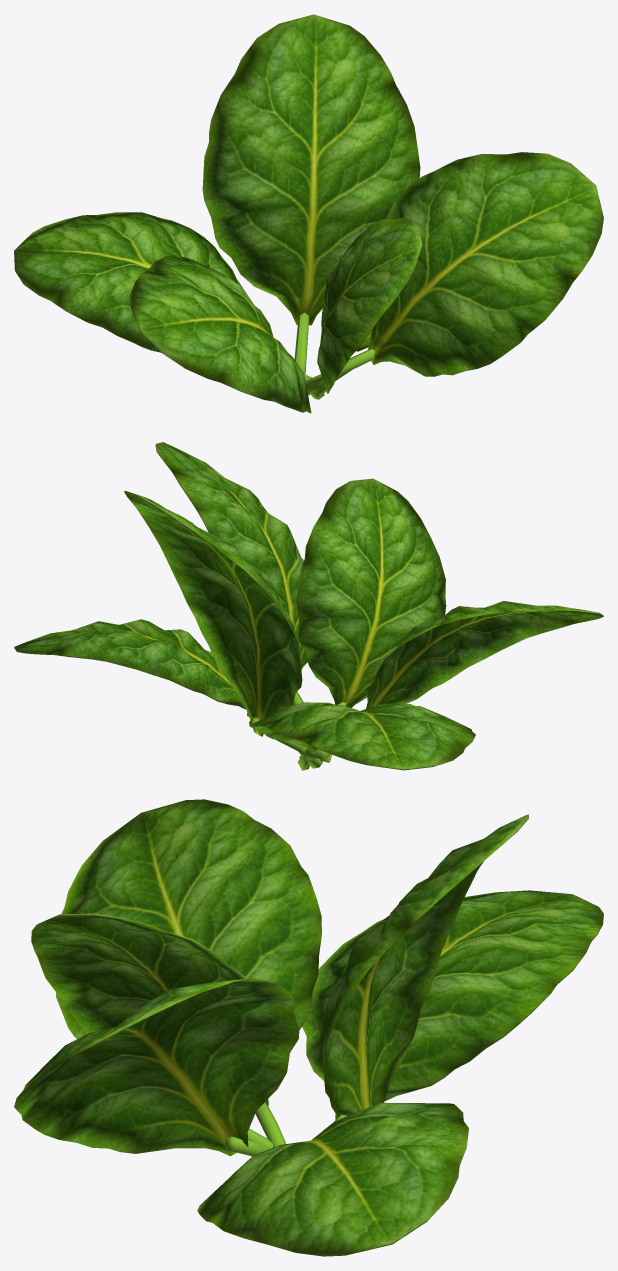
Rendered from NP_Spinach_LeafGrowth_LOD1.fbx.
3 renders of one model, top to bottom at view 1: azimuth 30°, elevation 25°; view 2: azimuth 150°, elevation 25°; view 3: azimuth 270°, elevation 25°, orthographic. The views are drawn at different scales.
Parts seen in each view (by area): view 1: NP_Spinach_LeafGrowth; view 2: NP_Spinach_LeafGrowth; view 3: NP_Spinach_LeafGrowth.
Part boxes in pixels (box(x1,y1,x2,y2)): NP_Spinach_LeafGrowth: box(14, 14, 603, 413); NP_Spinach_LeafGrowth: box(14, 442, 603, 770); NP_Spinach_LeafGrowth: box(14, 799, 603, 1256).
Bounding box in the file's own units: 61.12 × 36.79 × 47.69.
